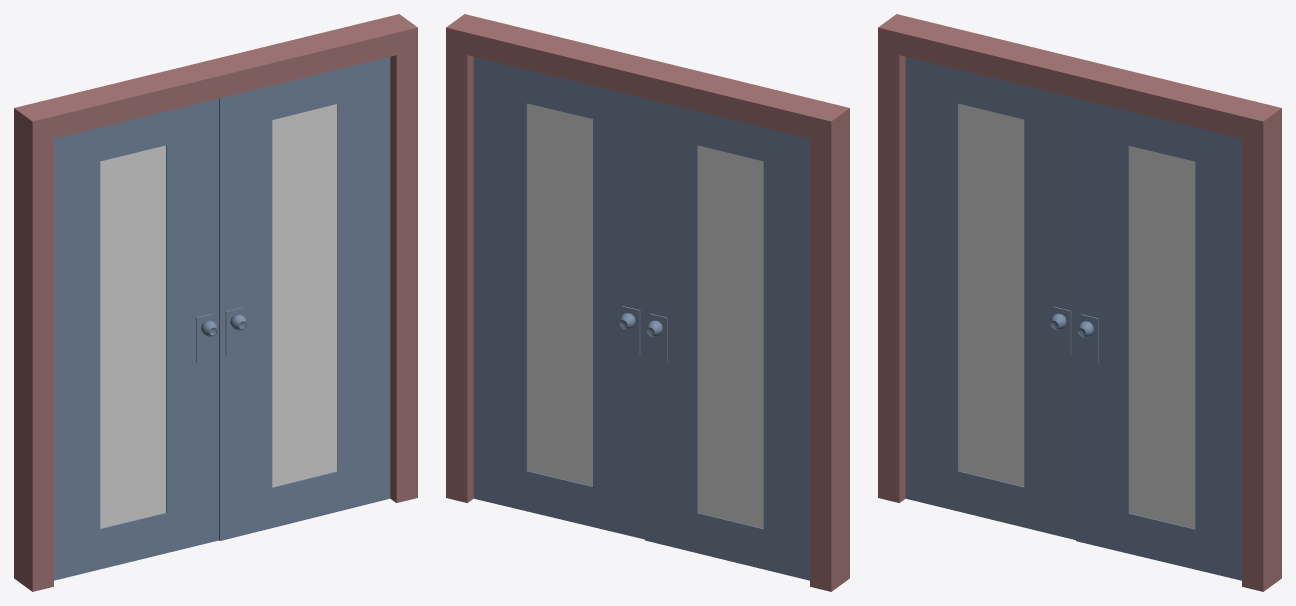
Rendered from SM_DoorEntrance_00.fbx.
3 renders of one model, left to right at view 1: azimuth 30°, elevation 25°; view 2: azimuth 150°, elevation 25°; view 3: azimuth 330°, elevation 25°, orthographic.
Visible parts, largest first — view 1: DoorEntrance_00; view 2: DoorEntrance_00; view 3: DoorEntrance_00.
Part boxes in pixels (left/top/right/bottom): DoorEntrance_00: left=14, top=14, right=417, bottom=591; DoorEntrance_00: left=446, top=14, right=849, bottom=591; DoorEntrance_00: left=878, top=14, right=1281, bottom=591.
Bounding box in the file's own units: 180 × 210 × 18.98.
